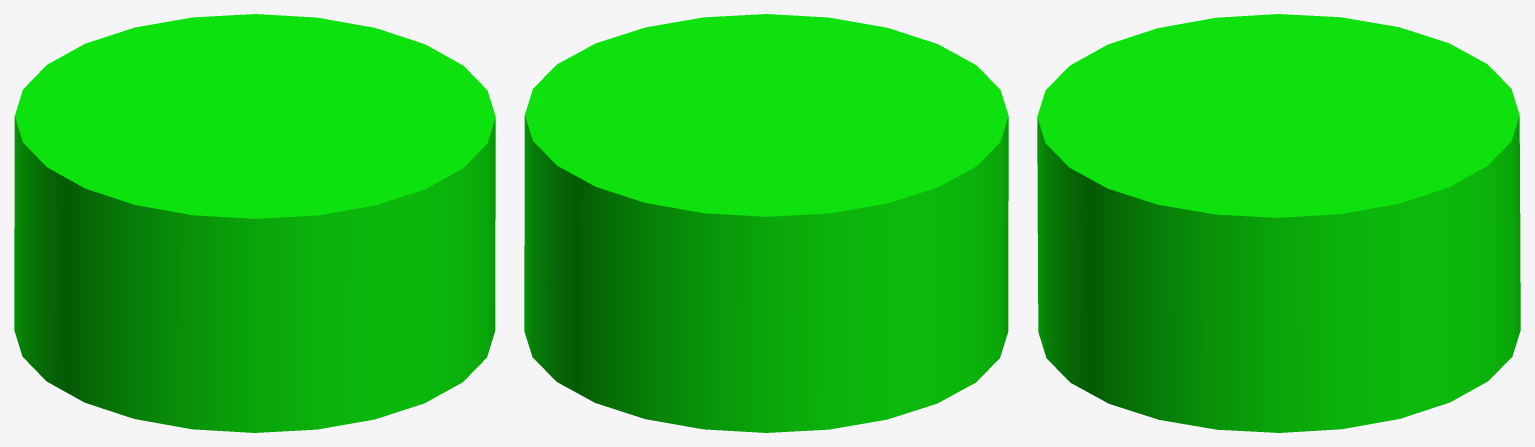
Rendered from SM_GreenButton.FBX.
3 renders of one model, left to right at view 1: azimuth 30°, elevation 25°; view 2: azimuth 150°, elevation 25°; view 3: azimuth 270°, elevation 25°, orthographic.
Parts seen in each view (by area): view 1: SM_GreenButton; view 2: SM_GreenButton; view 3: SM_GreenButton.
Part boxes in pixels (bbox=[...]): SM_GreenButton: bbox=[14, 14, 495, 432]; SM_GreenButton: bbox=[524, 14, 1008, 432]; SM_GreenButton: bbox=[1037, 14, 1520, 432].
Bounding box in the file's own units: 10 × 4.96 × 10.02.
